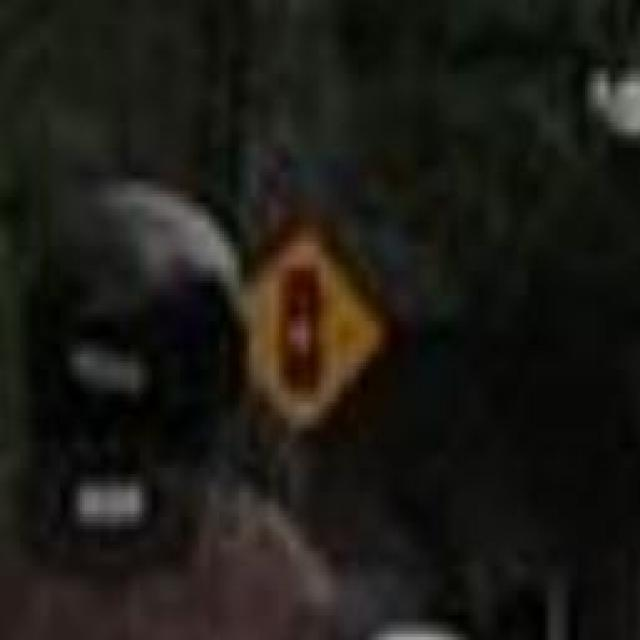traffic sign: (254, 234, 384, 431)
